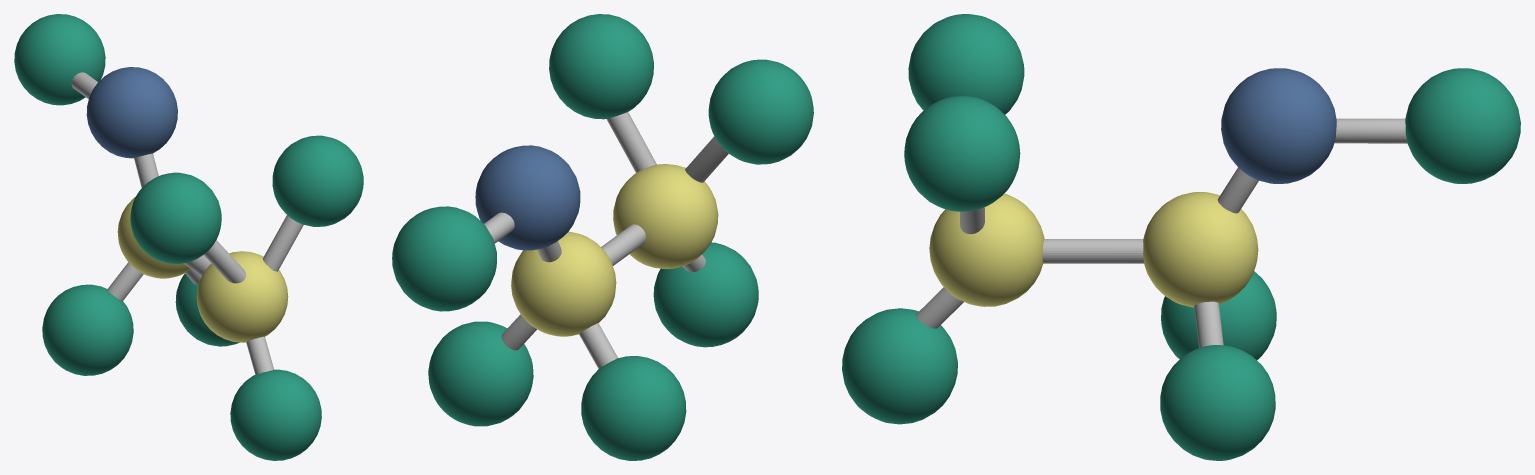
The model's file is etanol.gltf.
3 views of the same model, side by side, from view 1: azimuth 30°, elevation 25°; view 2: azimuth 150°, elevation 25°; view 3: azimuth 270°, elevation 25° (orthographic). The views are drawn at different scales.
Visible parts, largest first — view 1: Sphere.005, Sphere.002, Sphere.001, 4, 5, 2, 7, 1, 6; view 2: Sphere.005, Sphere.002, Sphere.001, 4, 5, 3, 7, 8, 6; view 3: Sphere.005, Sphere.002, Sphere.001, 3, 6, 8, 2, 1.
Part boxes in pixels (<box>): Sphere.005: <box>14,14,363,460</box>; Sphere.002: <box>117,197,288,342</box>; Sphere.001: <box>86,67,177,158</box>; 4: <box>263,215,303,271</box>; 5: <box>204,240,246,283</box>; 2: <box>246,336,273,374</box>; 7: <box>107,262,143,301</box>; 1: <box>134,153,158,187</box>; 6: <box>71,72,97,99</box>; Sphere.005: <box>392,14,813,460</box>; Sphere.002: <box>511,164,718,336</box>; Sphere.001: <box>475,145,580,250</box>; 4: <box>606,112,656,172</box>; 5: <box>685,136,728,182</box>; 3: <box>601,224,645,265</box>; 7: <box>579,323,617,368</box>; 8: <box>501,314,536,350</box>; 6: <box>484,212,514,243</box>; Sphere.005: <box>842,14,1520,460</box>; Sphere.002: <box>929,192,1258,307</box>; Sphere.001: <box>1221,68,1336,183</box>; 3: <box>1042,239,1143,263</box>; 6: <box>1334,118,1407,143</box>; 8: <box>1194,301,1223,347</box>; 2: <box>916,287,963,328</box>; 1: <box>1218,167,1258,213</box>.
Size of the model in its own units: 5.64 by 6.81 by 11.68.
